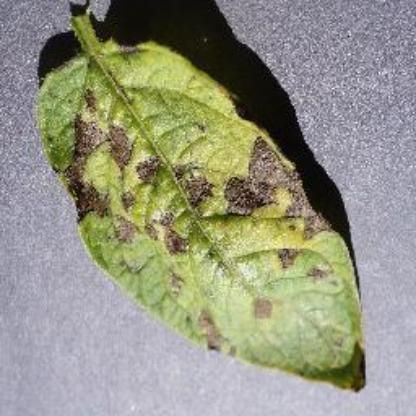Early-Blight: (38, 8, 378, 394)
